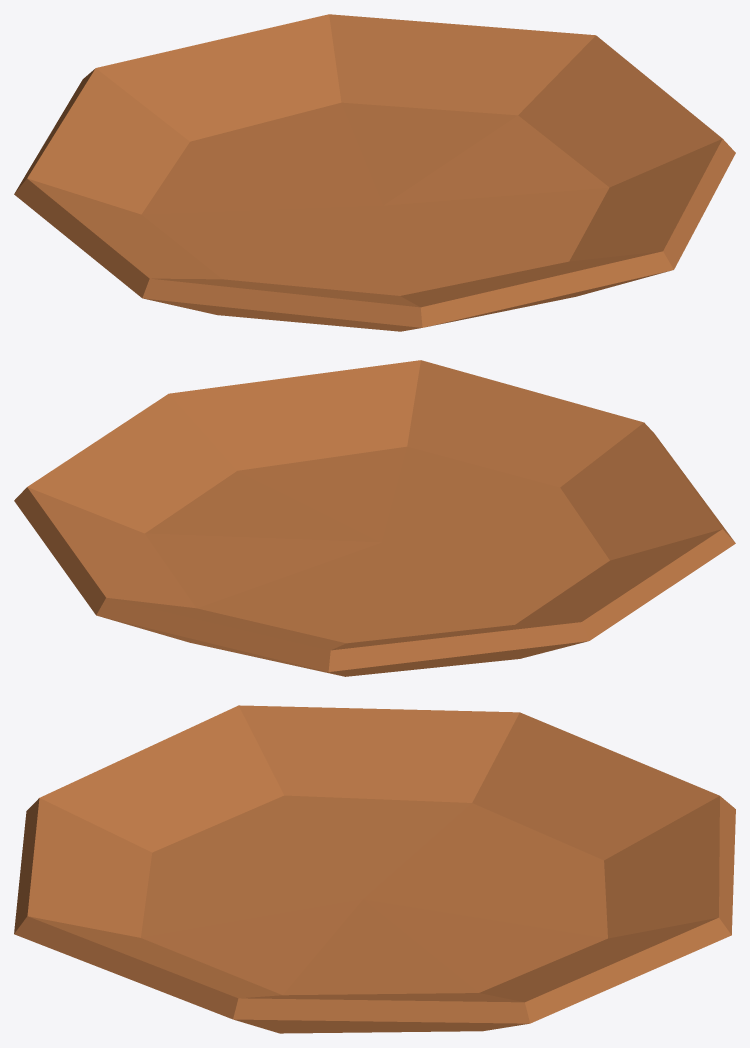
File: SM_Prop_Copper_Plate_Large_03.glb
3 renders of one model, top to bottom at view 1: azimuth 30°, elevation 25°; view 2: azimuth 150°, elevation 25°; view 3: azimuth 270°, elevation 25°, orthographic. The views are drawn at different scales.
Visible parts, largest first — view 1: SM_Prop_Copper_Plate_Large_03; view 2: SM_Prop_Copper_Plate_Large_03; view 3: SM_Prop_Copper_Plate_Large_03.
Boxes of the visible parts, x1,y1,x2,y2 form: SM_Prop_Copper_Plate_Large_03: [14, 14, 735, 331]; SM_Prop_Copper_Plate_Large_03: [14, 360, 735, 676]; SM_Prop_Copper_Plate_Large_03: [14, 705, 735, 1033].
Size of the model in its own units: 1.14 by 0.1388 by 1.12.
Materials: 1 (1 with a texture image).
